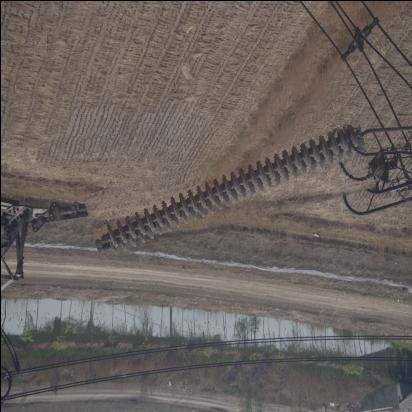insulator: (84, 139, 374, 243)
